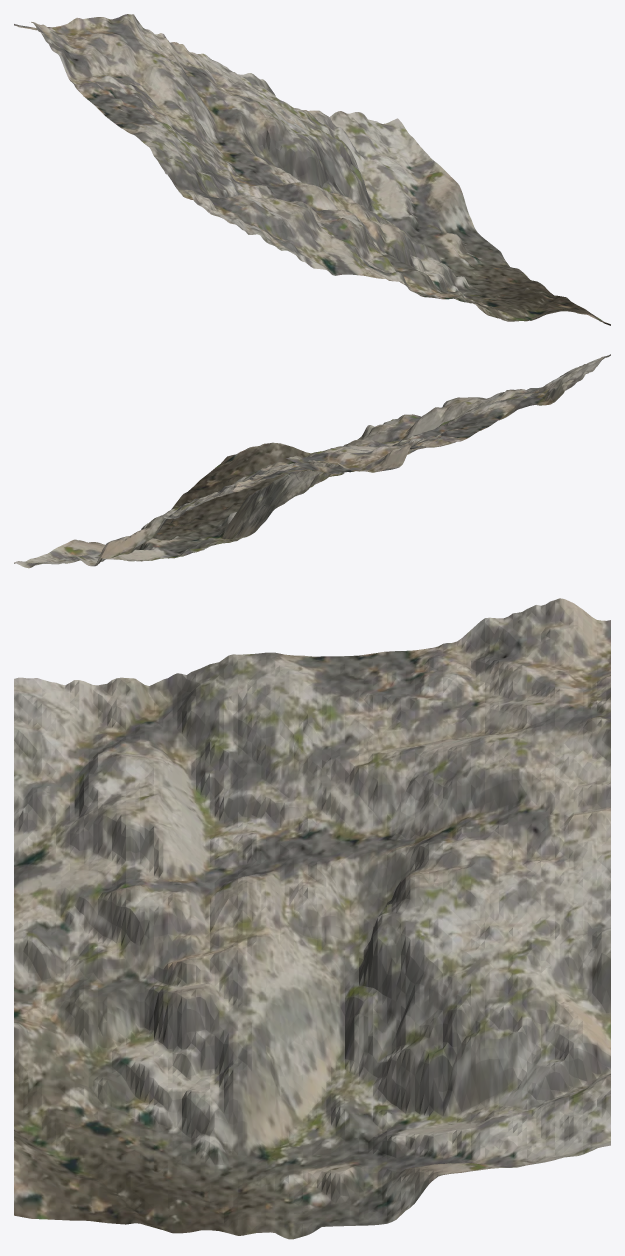
3 views of the same model, one above another, from view 1: azimuth 30°, elevation 25°; view 2: azimuth 150°, elevation 25°; view 3: azimuth 270°, elevation 25° (orthographic). The views are drawn at different scales.
Size of the model in its own units: 250 by 170 by 241.
1 material, 1 textured.
